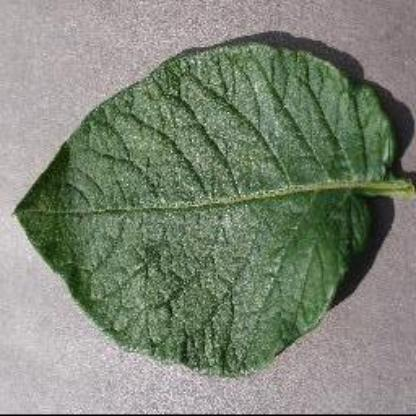Healthy-plant: (16, 41, 414, 378)
